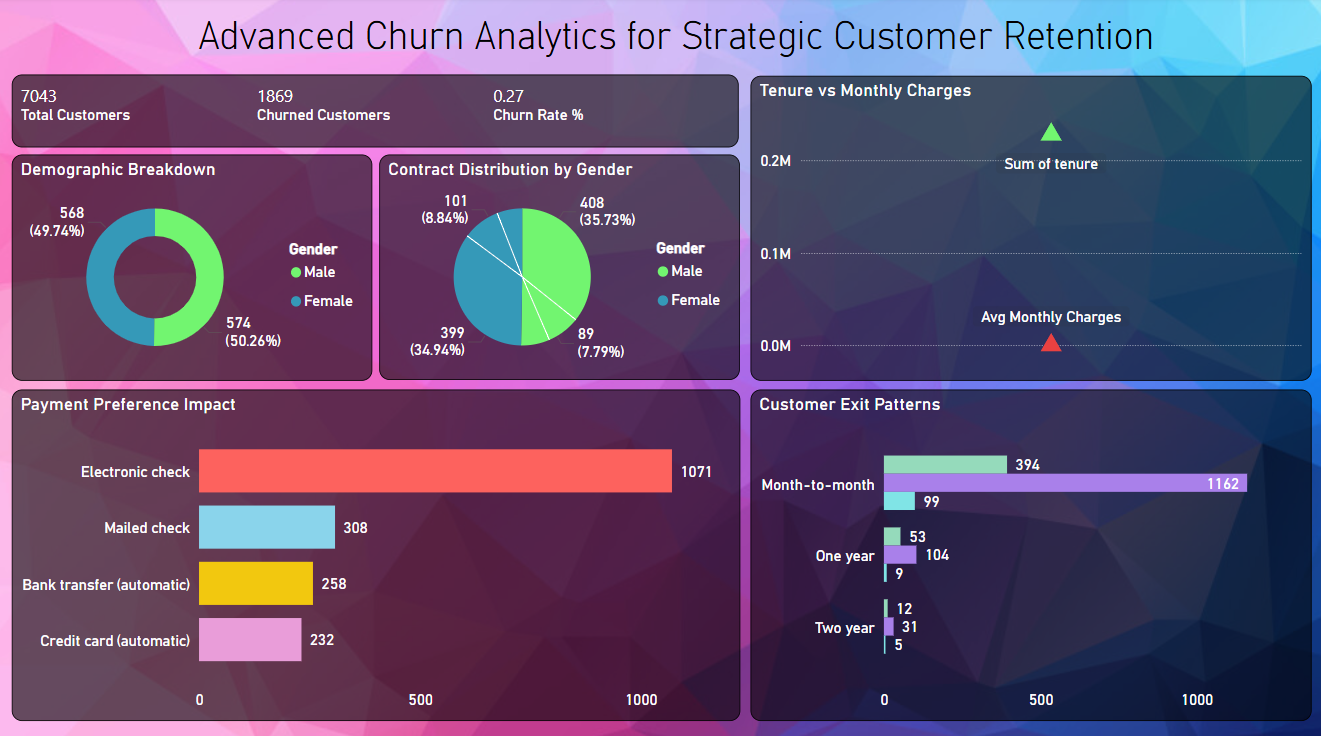

This screenshot's page, from the dashboard's own definition file:
{"tool":"powerbi","page":{"name":"Page 1","canvas":[1280,720],"ordinal":0},"visuals":[{"type":"multiRowCard","fields":{"Values":["TelcoChurn.Total Customers","TelcoChurn.Churned Customers","TelcoChurn.Churn Rate %"]},"box":[12.9,74.3,701.4,70],"z":0},{"type":"clusteredBarChart","title":"Customer Exit Patterns","fields":{"Category":["TelcoChurn.Contract"],"Series":["TelcoChurn.InternetService"],"Y":["TelcoChurn.Churned Customers"]},"box":[725.7,378.6,541.4,320],"z":1000},{"type":"donutChart","title":"Demographic Breakdown","fields":{"Category":["TelcoChurn.gender"],"Y":["Sum(TelcoChurn.SeniorCitizen)"]},"box":[13,152,348,218],"z":2000},{"type":"lineChart","title":"Tenure vs Monthly Charges","fields":{"Y":["TelcoChurn.Avg Monthly Charges","Sum(TelcoChurn.tenure)"]},"box":[725.7,75.7,541.4,294.3],"z":3000},{"type":"clusteredBarChart","title":"Payment Preference Impact","fields":{"Category":["TelcoChurn.PaymentMethod"],"Y":["TelcoChurn.Churned Customers"]},"box":[13,379,703,320],"z":4000},{"type":"pieChart","title":"Contract Distribution by Gender","fields":{"Category":["TelcoChurn.gender","TelcoChurn.InternetService"],"Y":["Sum(TelcoChurn.SeniorCitizen)"],"Series":["TelcoChurn.Contract"]},"box":[367.8,152.2,347.8,217.8],"z":5000},{"type":"textbox","box":[28.6,10,1251.4,54.3],"z":6000}]}

Visuals, with their boxes in screenshot pixels (x1, y1, x2, y2), scaled from the page's 1280x720 canvas onto the 1321x736 screenshot:
multiRowCard - TelcoChurn.Total Customers x TelcoChurn.Churned Customers: BBox(13, 76, 737, 148)
"Customer Exit Patterns" clusteredBarChart: BBox(749, 387, 1308, 714)
"Demographic Breakdown" donutChart: BBox(13, 155, 373, 378)
"Tenure vs Monthly Charges" lineChart: BBox(749, 77, 1308, 378)
"Payment Preference Impact" clusteredBarChart: BBox(13, 387, 739, 715)
"Contract Distribution by Gender" pieChart: BBox(380, 156, 739, 378)
textbox: BBox(30, 10, 1320, 66)
